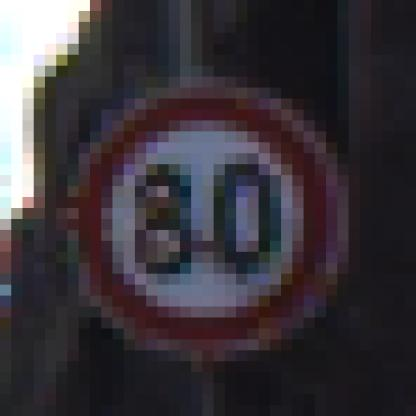Speed Limit 80: (80, 88, 328, 342)
